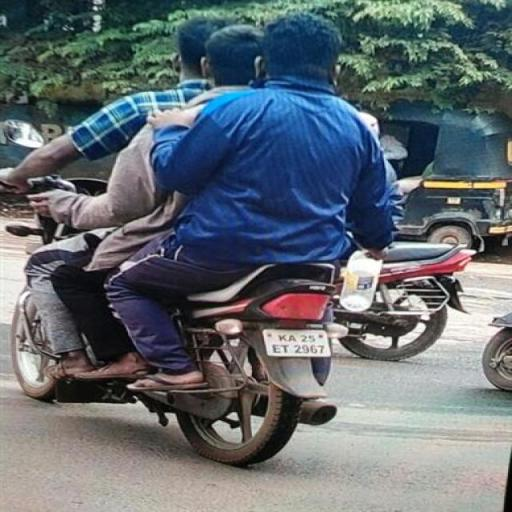tripple riding: (6, 10, 424, 212)
